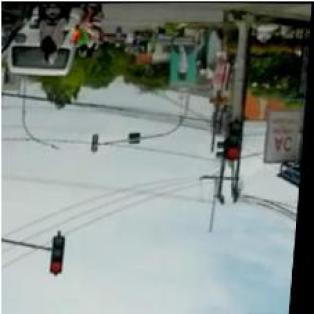Semaforo Rojo: (50, 234, 69, 275), (227, 122, 246, 159)
